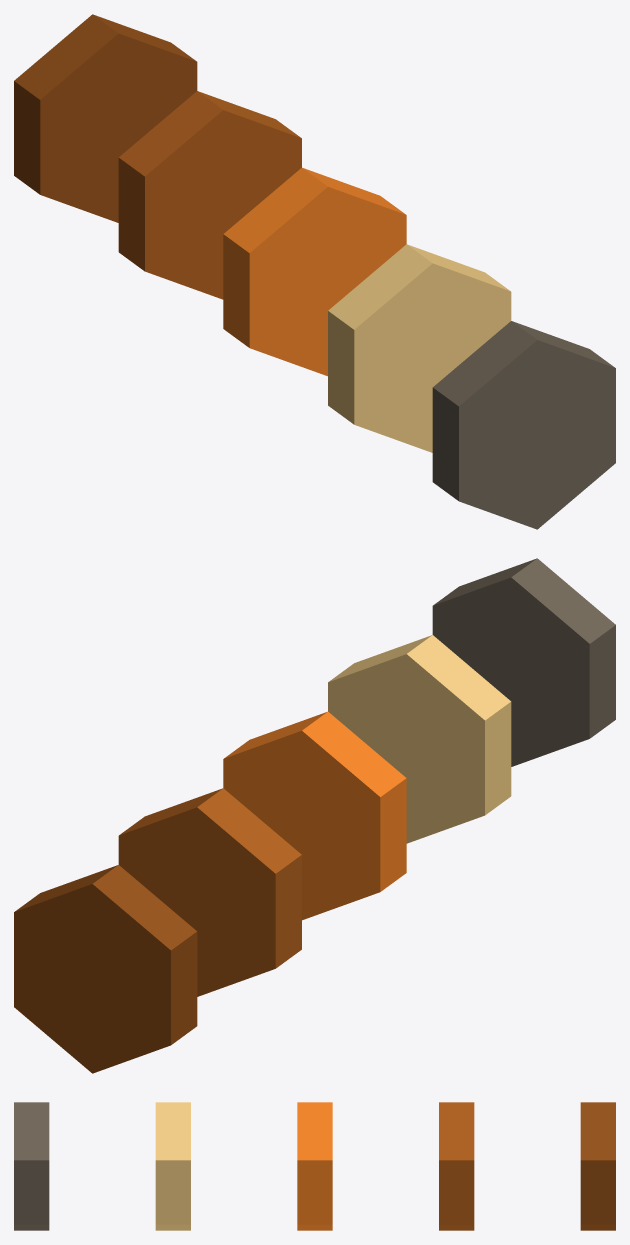
Rendered from 6-scioklocki do mapy rotacja .fbx.
3 views of the same model, one above another, from view 1: azimuth 30°, elevation 25°; view 2: azimuth 150°, elevation 25°; view 3: azimuth 270°, elevation 25° (orthographic). The views are drawn at different scales.
Parts seen in each view (by area): view 1: Cylinder.004, Cylinder.001, Cylinder.002, Cylinder, Cylinder.003; view 2: Cylinder, Cylinder.003, Cylinder.002, Cylinder.001, Cylinder.004; view 3: Cylinder, Cylinder.001, Cylinder.002, Cylinder.003, Cylinder.004.
Boxes of the visible parts, box(x1,y1,x2,y2) form: Cylinder.004: box(432, 321, 615, 529); Cylinder.001: box(118, 91, 301, 299); Cylinder.002: box(223, 167, 406, 376); Cylinder: box(14, 14, 197, 222); Cylinder.003: box(328, 244, 511, 452); Cylinder: box(14, 865, 197, 1073); Cylinder.003: box(328, 635, 511, 843); Cylinder.002: box(223, 711, 406, 920); Cylinder.001: box(118, 788, 301, 996); Cylinder.004: box(432, 558, 615, 766); Cylinder: box(580, 1102, 615, 1230); Cylinder.001: box(439, 1102, 474, 1230); Cylinder.002: box(297, 1102, 332, 1230); Cylinder.003: box(155, 1102, 190, 1230); Cylinder.004: box(14, 1102, 49, 1230).
Size of the model in its own units: 173 by 200 by 850.
